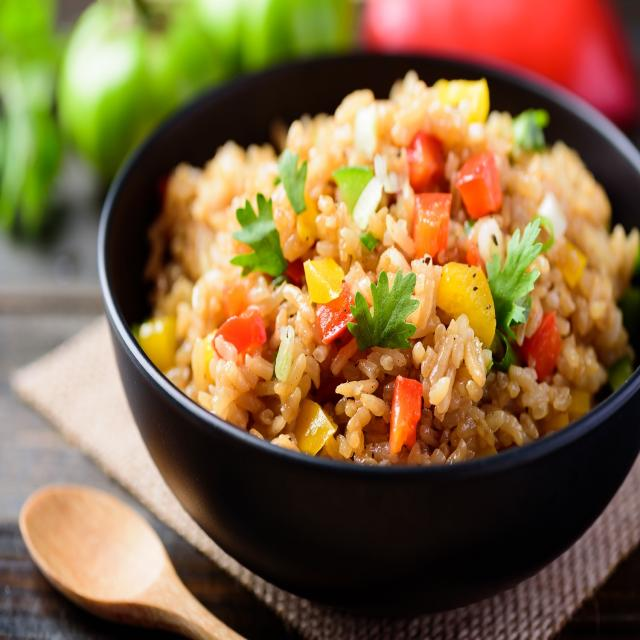arroz: (130, 58, 631, 482)
